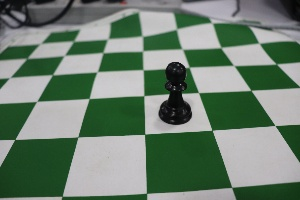black_pawn: (154, 51, 195, 127)
